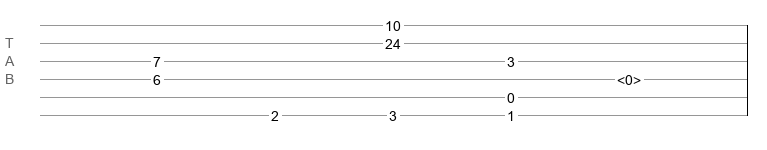0: (507, 90, 515, 100)
1: (507, 108, 515, 118)
10: (385, 18, 401, 28)
2: (271, 108, 279, 118)
24: (385, 36, 401, 46)
3: (389, 108, 397, 118), (507, 54, 515, 64)
6: (153, 72, 161, 82)
7: (153, 54, 161, 64)
harmonic: (617, 72, 641, 82)
